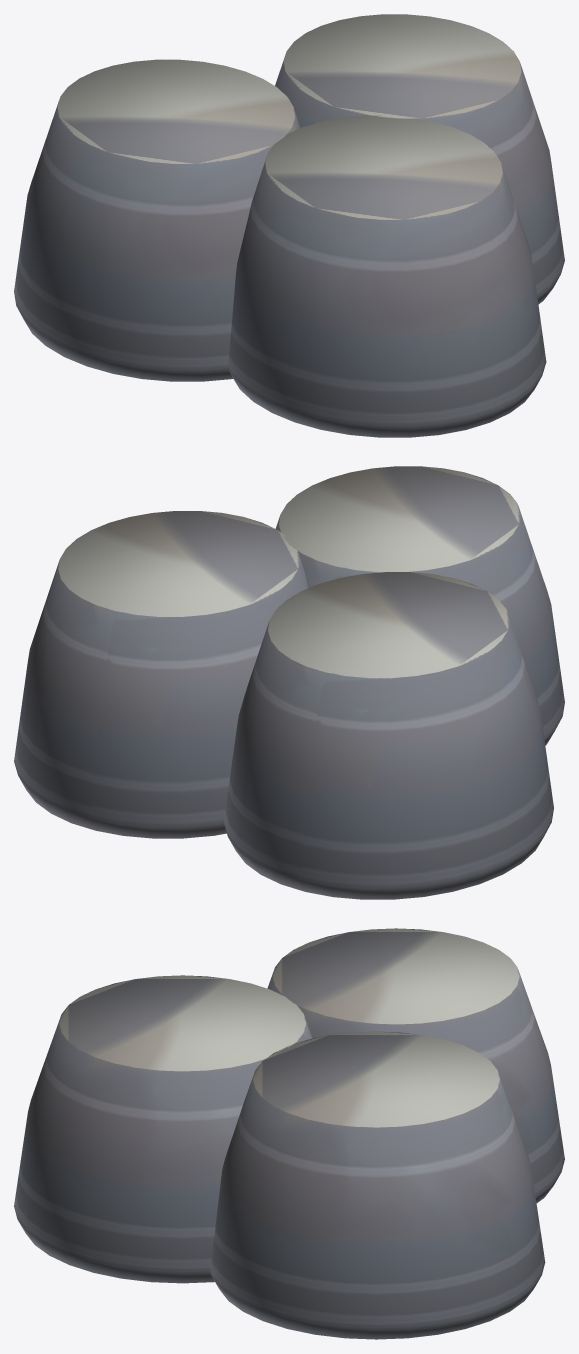
The model's file is PropulsorTriplo.fbx.
3 views of the same model, one above another, from view 1: azimuth 30°, elevation 25°; view 2: azimuth 150°, elevation 25°; view 3: azimuth 270°, elevation 25° (orthographic). The views are drawn at different scales.
Visible parts, largest first — view 1: PropulsorTriplo; view 2: PropulsorTriplo; view 3: PropulsorTriplo.
Part boxes in pixels (left/top/right/bottom): PropulsorTriplo: left=14, top=14, right=564, bottom=437; PropulsorTriplo: left=14, top=466, right=564, bottom=899; PropulsorTriplo: left=14, top=928, right=564, bottom=1339.
Bounding box in the file's own units: 70.74 × 70.31 × 27.83.
Materials: 1 (1 with a texture image).
